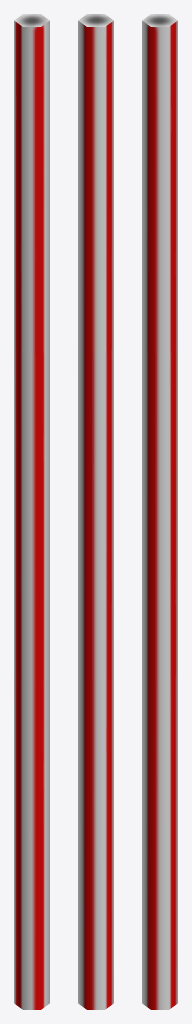
File: straw.fbx
3 renders of one model, left to right at view 1: azimuth 30°, elevation 25°; view 2: azimuth 150°, elevation 25°; view 3: azimuth 330°, elevation 25°, orthographic.
Visible parts, largest first — view 1: Straw; view 2: Straw; view 3: Straw.
Part boxes in pixels (bbox=[...]): Straw: bbox=[14, 14, 49, 1009]; Straw: bbox=[78, 14, 113, 1009]; Straw: bbox=[142, 14, 177, 1009].
Bounding box in the file's own units: 1.68 × 58.86 × 1.94.
